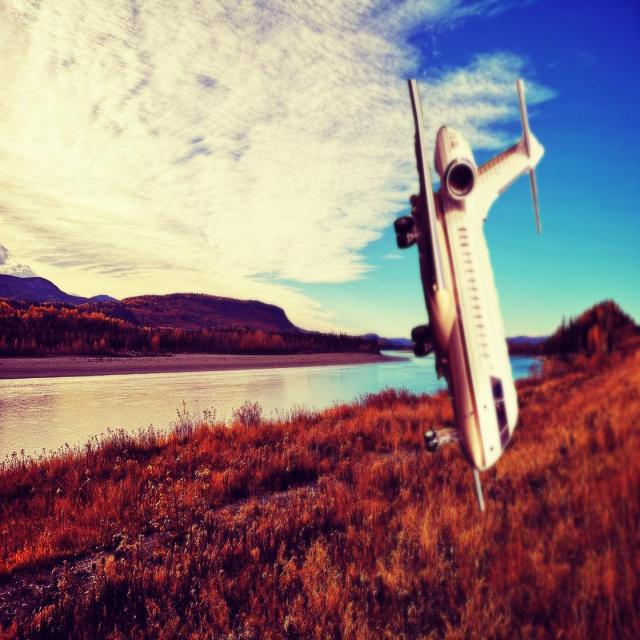airplane: (393, 76, 545, 510)
